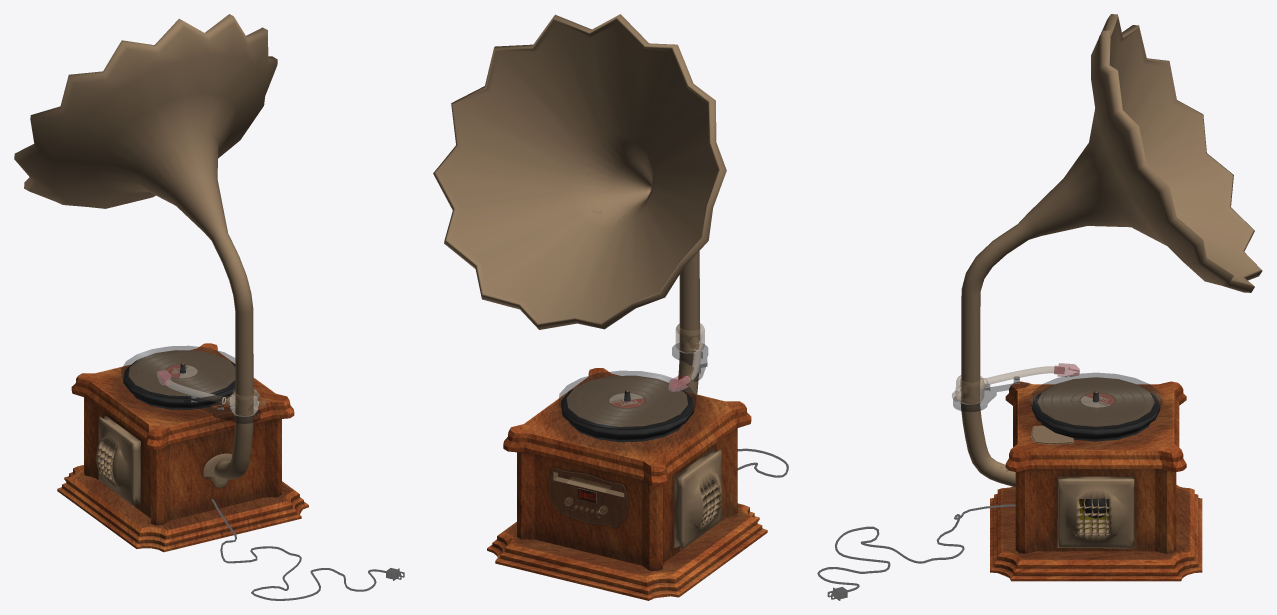
File: tocadisco.glb
3 renders of one model, left to right at view 1: azimuth 30°, elevation 25°; view 2: azimuth 150°, elevation 25°; view 3: azimuth 270°, elevation 25°, orthographic. The views are drawn at different scales.
Visible parts, largest first — view 1: Bocina, Cajon, Disco, Rejilla1, cable, cable1, Soporte1, BaseAguja, Soporte; view 2: Bocina, Cajon, Disco, Rejilla1, Panel, Soporte1, Soporte; view 3: Bocina, Cajon, Disco, Rejilla, cable, cable1, Soporte1, BaseAguja, Soporte.
Boxes of the visible parts, left/top/right/bottom form: Bocina: left=14, top=14, right=277, bottom=487; Cajon: left=57, top=343, right=308, bottom=552; Disco: left=121, top=346, right=234, bottom=398; Rejilla1: left=96, top=415, right=140, bottom=506; cable: left=211, top=499, right=404, bottom=600; cable1: left=211, top=499, right=404, bottom=600; Soporte1: left=184, top=395, right=260, bottom=423; BaseAguja: left=165, top=379, right=266, bottom=408; Soporte: left=230, top=390, right=258, bottom=416; Bocina: left=433, top=14, right=726, bottom=394; Cajon: left=487, top=368, right=767, bottom=600; Disco: left=558, top=371, right=695, bottom=429; Rejilla1: left=674, top=448, right=722, bottom=549; Panel: left=549, top=468, right=628, bottom=526; Soporte1: left=672, top=343, right=707, bottom=381; Soporte: left=676, top=323, right=704, bottom=353; Bocina: left=961, top=14, right=1262, bottom=487; Cajon: left=990, top=377, right=1202, bottom=581; Disco: left=1030, top=373, right=1162, bottom=429; Rejilla: left=1057, top=476, right=1134, bottom=548; cable: left=817, top=505, right=1015, bottom=600; cable1: left=817, top=505, right=1015, bottom=600; Soporte1: left=953, top=376, right=1029, bottom=411; BaseAguja: left=952, top=366, right=1054, bottom=401; Soporte: left=955, top=375, right=984, bottom=404.
Size of the model in its own units: 0.0368 by 0.0695 by 0.0537.
2 materials, 2 textured.
